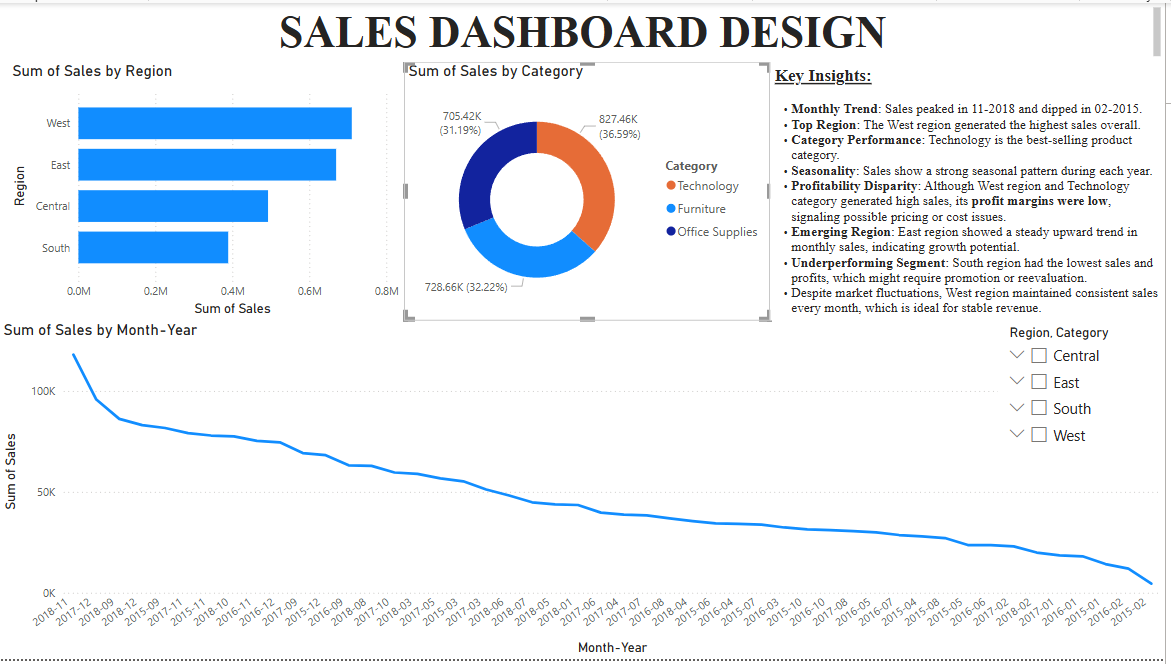

The dashboard page shown, as its layout file describes it:
{"tool":"powerbi","page":{"name":"Page 1","canvas":[1280,720],"ordinal":0},"visuals":[{"type":"lineChart","fields":{"Category":["superstore_final_dataset (1).Month-Year"],"Y":["Sum(superstore_final_dataset (1).Sales)"]},"box":[0,348.5,1280.3,371.9],"z":0},{"type":"barChart","fields":{"Category":["superstore_final_dataset (1).Region"],"Y":["Sum(superstore_final_dataset (1).Sales)"]},"box":[9.6,64.5,435,284],"z":1},{"type":"donutChart","fields":{"Category":["superstore_final_dataset (1).Category"],"Y":["Sum(superstore_final_dataset (1).Sales)"]},"box":[444.6,64.5,402.1,284],"z":2},{"type":"slicer","fields":{"Values":["superstore_final_dataset (1).Region","superstore_final_dataset (1).Category"]},"box":[1096.4,348.5,183.9,159.2],"z":3},{"type":"textbox","box":[9.6,0,1270.7,64.5],"z":4},{"type":"textbox","box":[846.7,64.5,433.6,284],"z":5}]}

Visuals, with their boxes in screenshot pixels (x1, y1, x2, y2), scaled from the page's 1280x720 canvas onto the 1171x664 screenshot:
lineChart - superstore_final_dataset (1).Month-Year x Sum(superstore_final_dataset (1).Sales): (0, 321, 1170, 663)
barChart - superstore_final_dataset (1).Region x Sum(superstore_final_dataset (1).Sales): (9, 59, 407, 321)
donutChart - superstore_final_dataset (1).Category x Sum(superstore_final_dataset (1).Sales): (407, 59, 775, 321)
slicer - superstore_final_dataset (1).Region x superstore_final_dataset (1).Category: (1003, 321, 1170, 468)
textbox: (9, 0, 1170, 59)
textbox: (775, 59, 1170, 321)
